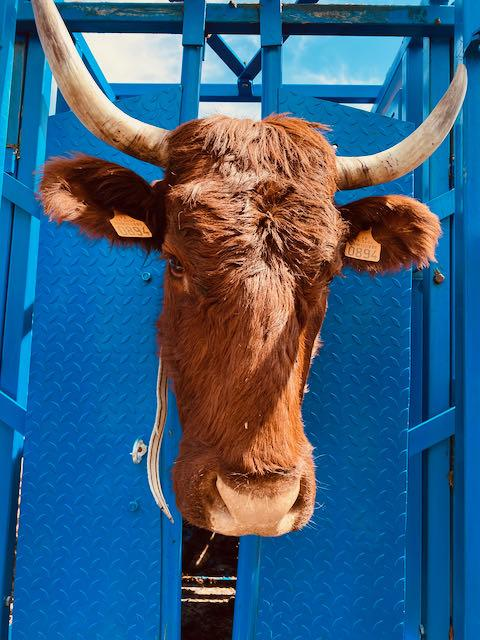muzzles: (164, 457, 334, 546)
